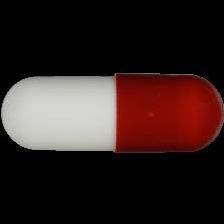55289-255: (0, 0, 224, 224)
